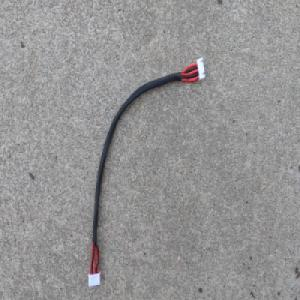Wire: (86, 55, 206, 289)
